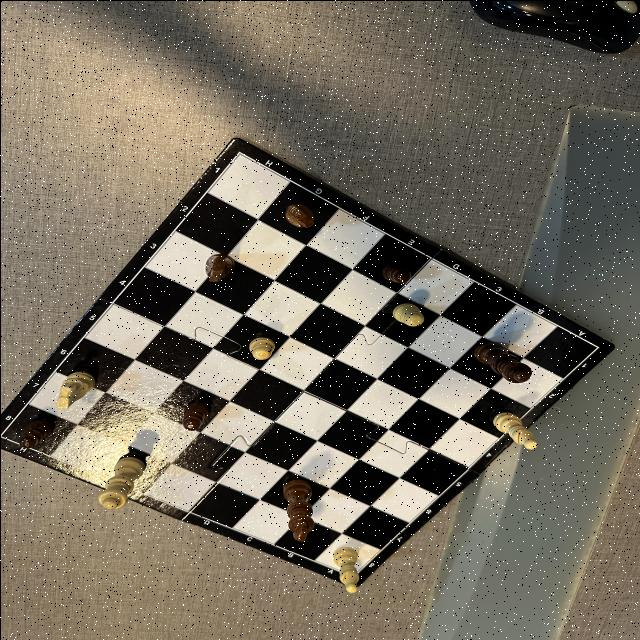Black-King: (280, 478, 314, 542)
Black-Knight: (204, 252, 234, 282), (283, 202, 314, 227)
Black-Pawn: (17, 417, 54, 447), (181, 400, 209, 430)
Black-Queen: (472, 340, 530, 382), (380, 260, 410, 282)
White-Bishop: (491, 411, 537, 448), (332, 546, 359, 592)
White-Knight: (54, 370, 95, 408)
White-Pawn: (389, 302, 424, 326), (248, 336, 276, 359)
White-Queen: (96, 455, 146, 509)
